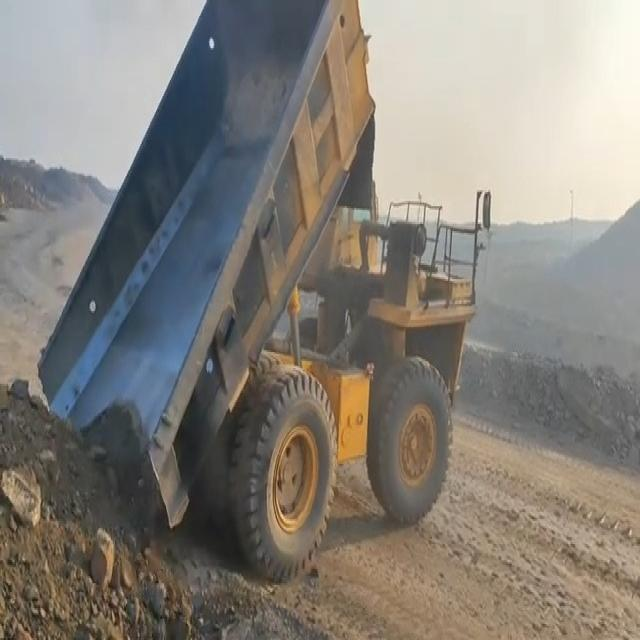dump_truck: (72, 6, 487, 557)
